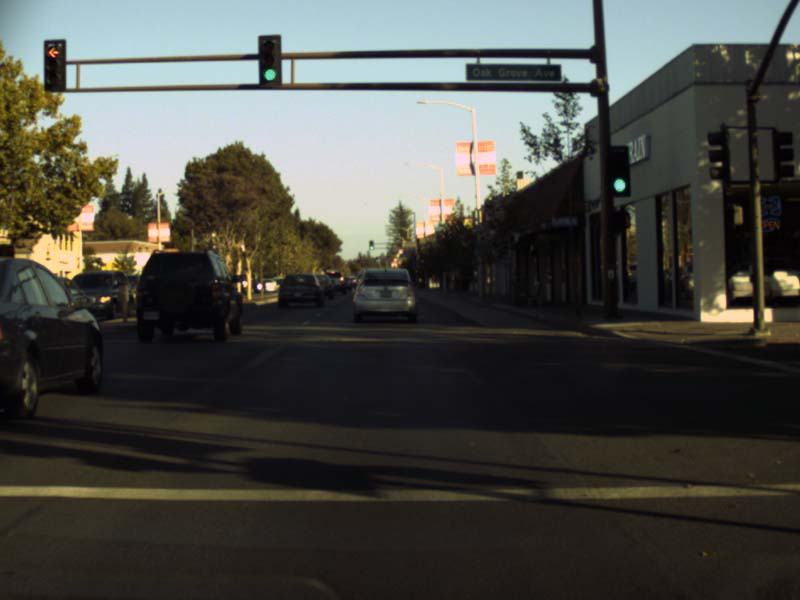Green: (258, 34, 281, 85), (605, 146, 629, 193), (369, 240, 373, 250), (374, 257, 377, 262)
Red: (42, 39, 65, 92)
